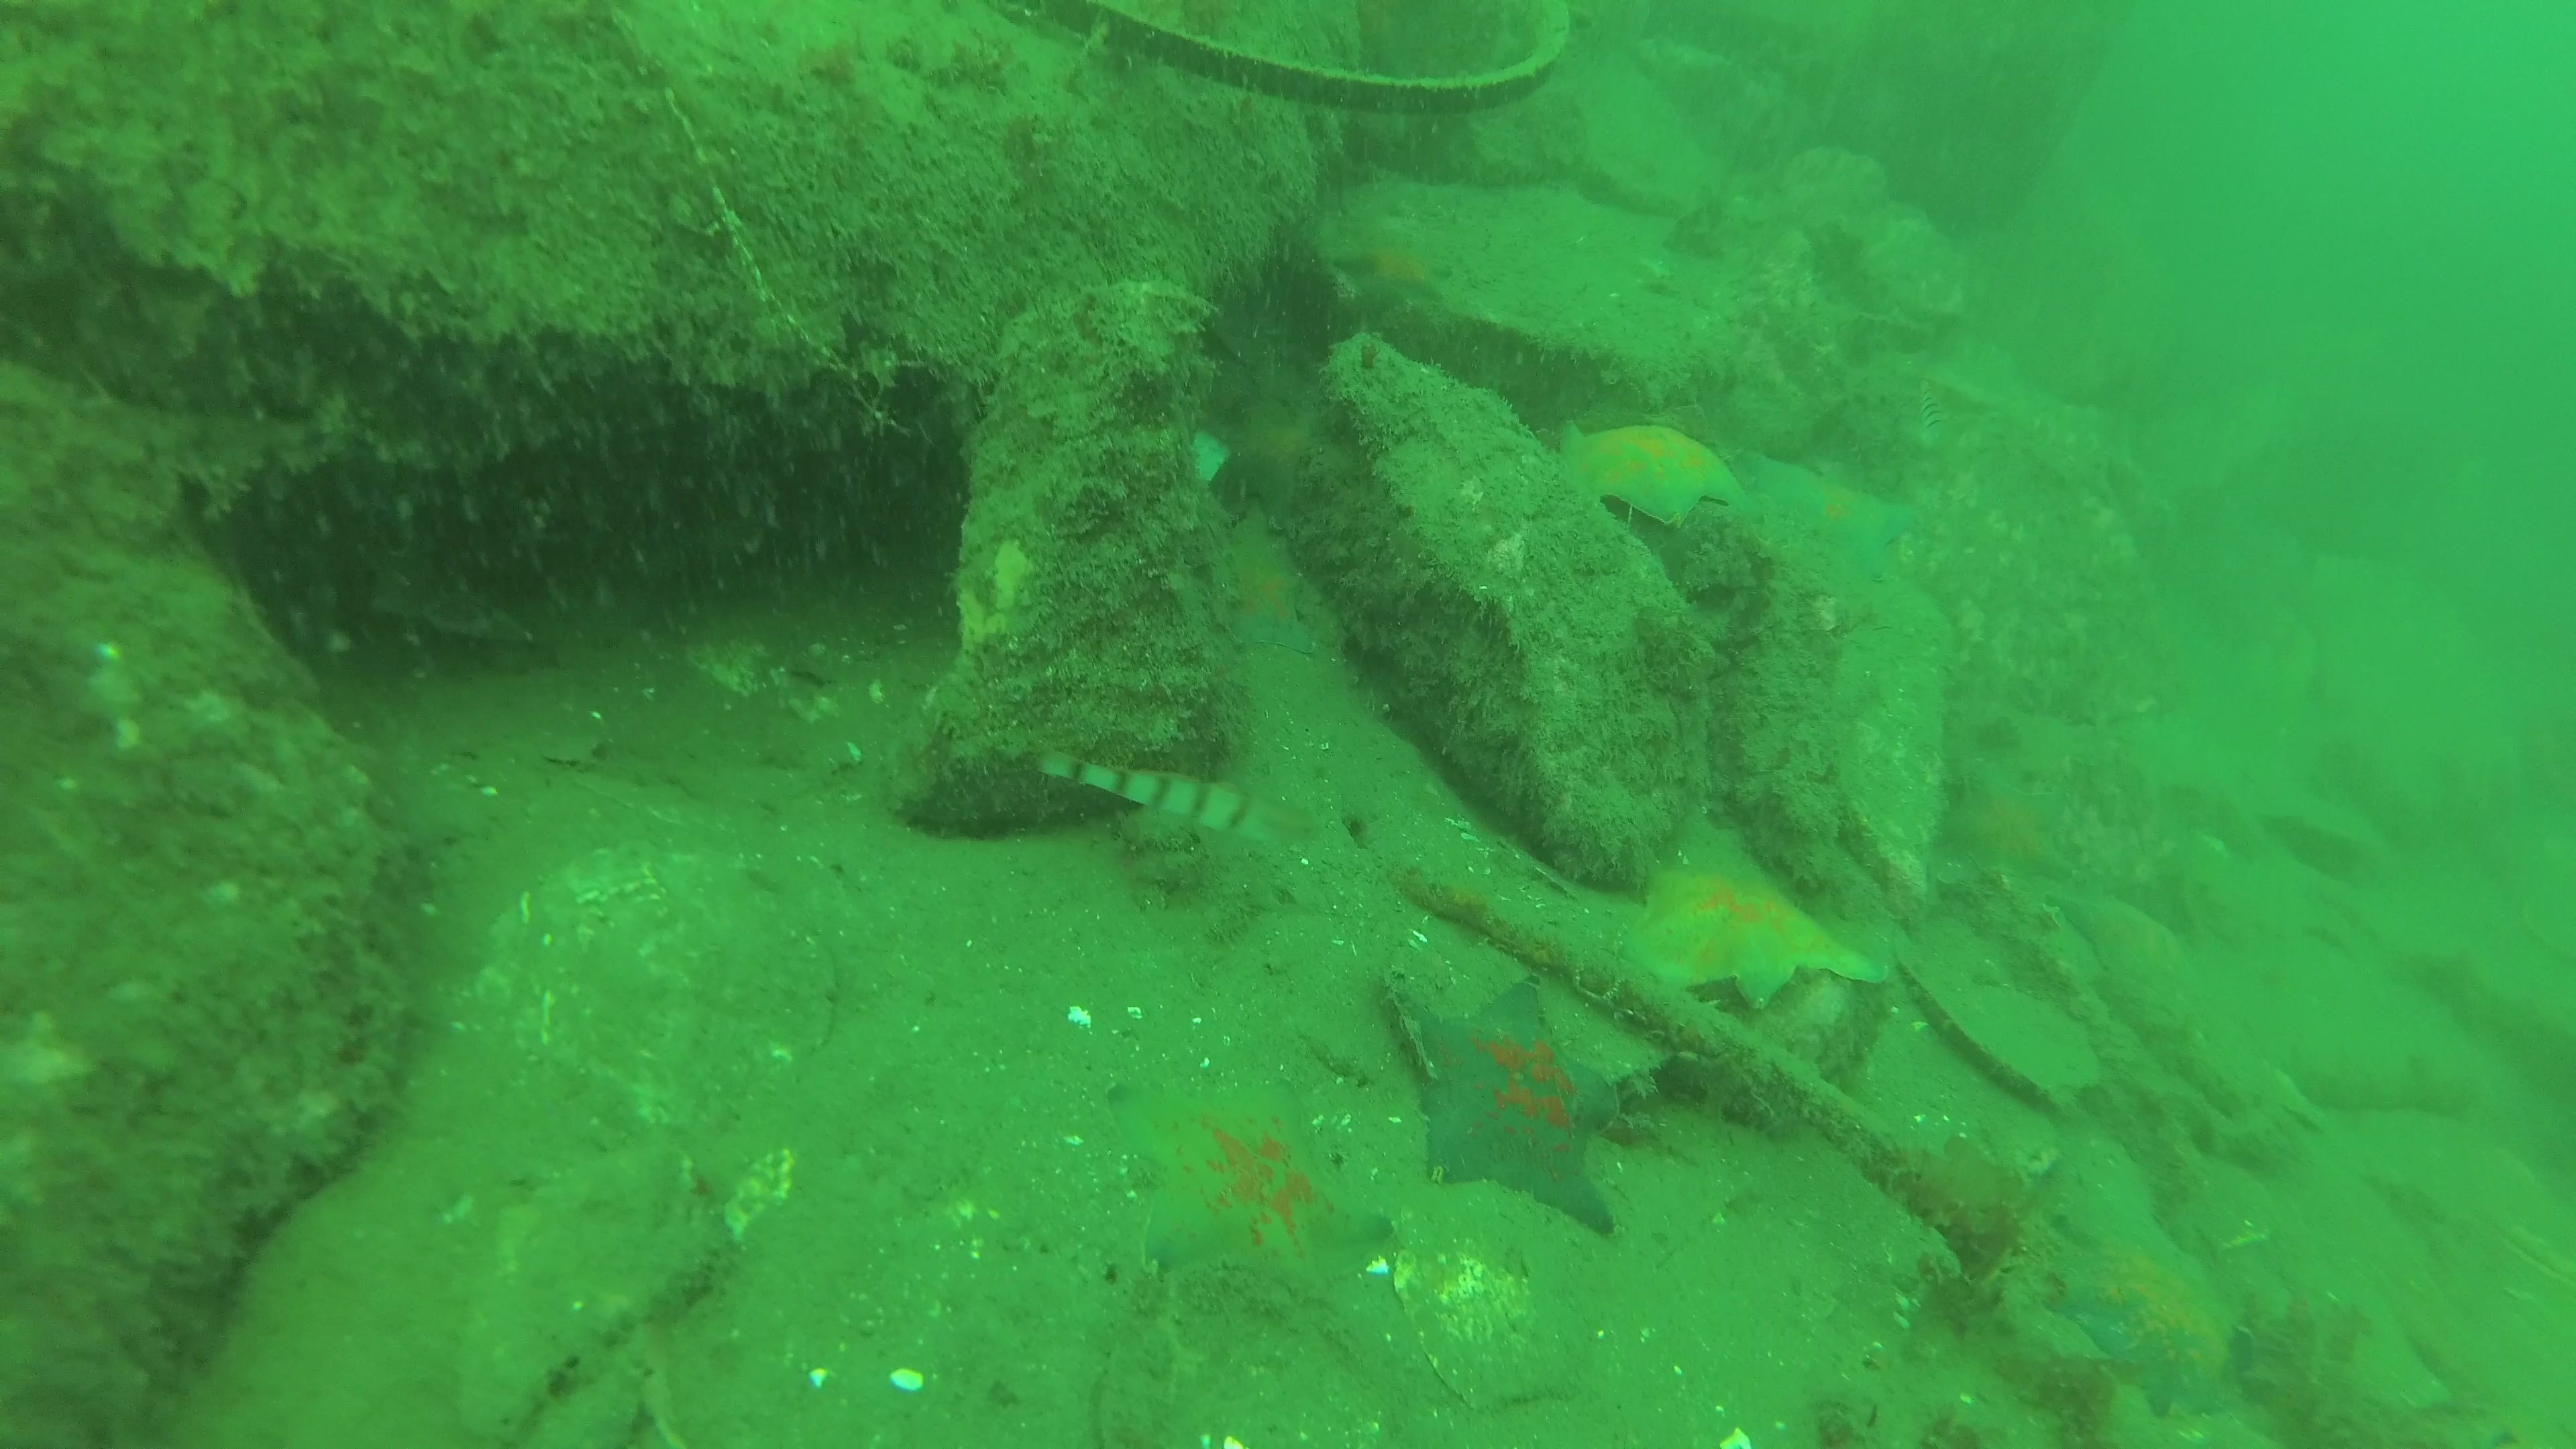starfish: (1376, 947, 1635, 1251), (1099, 1054, 1391, 1313), (2033, 1178, 2259, 1414), (1605, 855, 1898, 1014), (1520, 405, 1760, 548), (1732, 448, 1921, 593), (1916, 747, 2089, 897), (1212, 389, 1330, 540), (1304, 214, 1468, 311), (1214, 550, 1322, 663)
